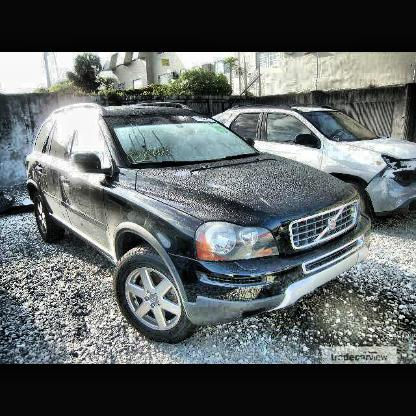Volvo XC90 SUV 2007: (26, 104, 371, 343)
